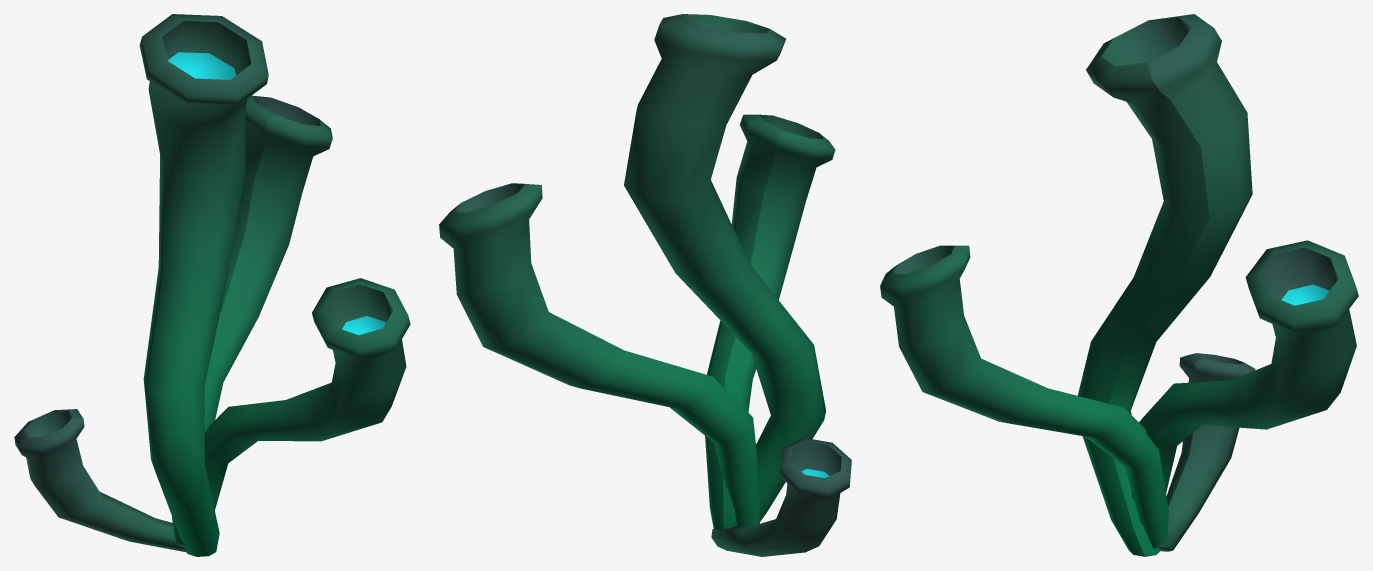
File: kelp.fbx
3 views of the same model, side by side, from view 1: azimuth 30°, elevation 25°; view 2: azimuth 150°, elevation 25°; view 3: azimuth 270°, elevation 25° (orthographic). The views are drawn at different scales.
Visible parts, largest first — view 1: kelp; view 2: kelp; view 3: kelp.
Boxes of the visible parts, left/top/right/bottom form: kelp: left=14, top=14, right=410, bottom=556; kelp: left=439, top=14, right=851, bottom=556; kelp: left=880, top=14, right=1358, bottom=556.
Size of what is drawn, in the model's own units: 59.13 by 83.39 by 68.23.
